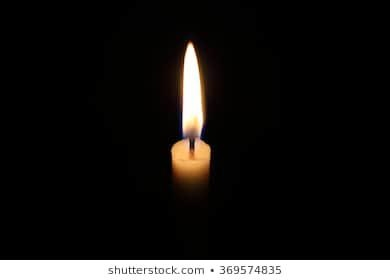fire: (179, 38, 204, 141)
